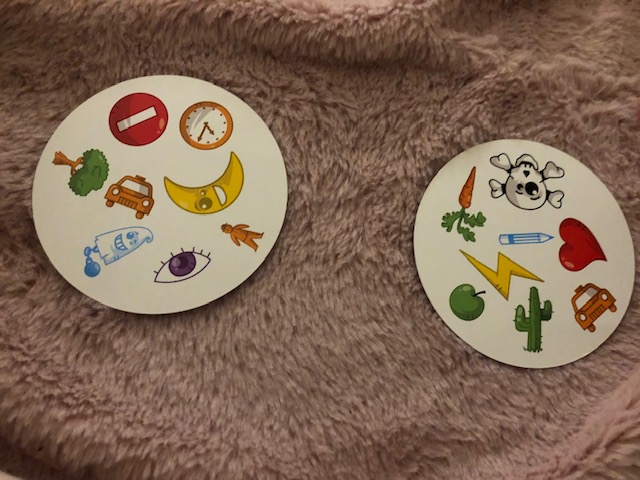arbre: (51, 144, 113, 200)
bonhomme: (217, 221, 269, 253)
cactus: (512, 287, 555, 353)
carotte: (438, 165, 487, 243)
coeur: (555, 216, 609, 271)
crayon: (502, 226, 554, 252)
eclair: (456, 244, 548, 302)
fantome: (80, 224, 154, 279)
horloge: (178, 100, 237, 148)
lune: (162, 154, 247, 215)
oeuil: (150, 244, 215, 285)
pomme: (444, 280, 487, 321)
sens_interdit: (104, 92, 173, 148)
tete_mort: (484, 151, 566, 212)
voiture: (102, 168, 160, 220), (565, 280, 619, 335)
